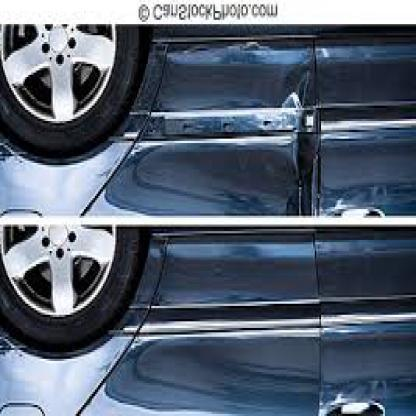dent: (257, 46, 340, 224)
